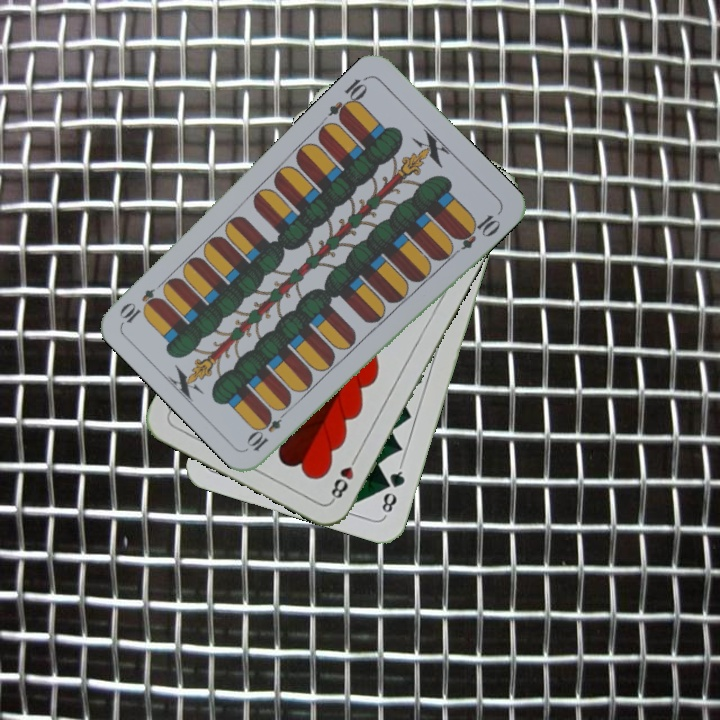E10: (324, 72, 371, 125), (244, 404, 292, 454)
G8: (377, 461, 408, 519)
H8: (327, 449, 362, 504)
